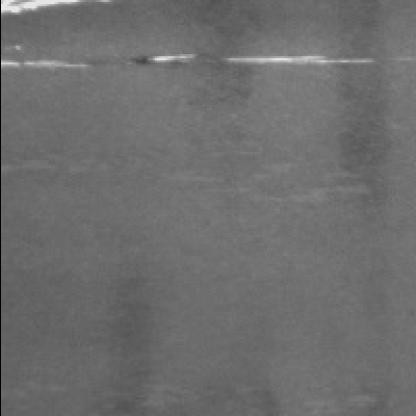scratches: (125, 40, 383, 70), (0, 46, 94, 73)
